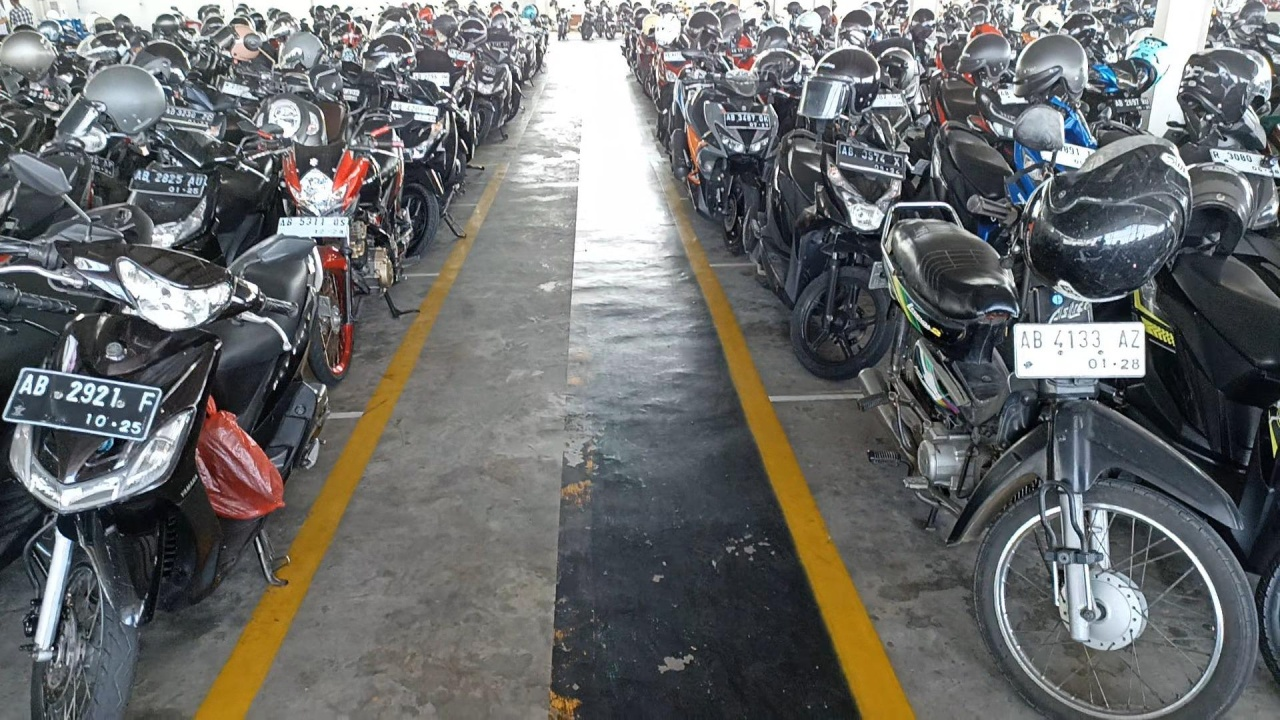plate: (2, 367, 161, 441), (1014, 322, 1146, 377), (837, 141, 905, 179), (129, 167, 207, 197), (724, 113, 771, 128)
